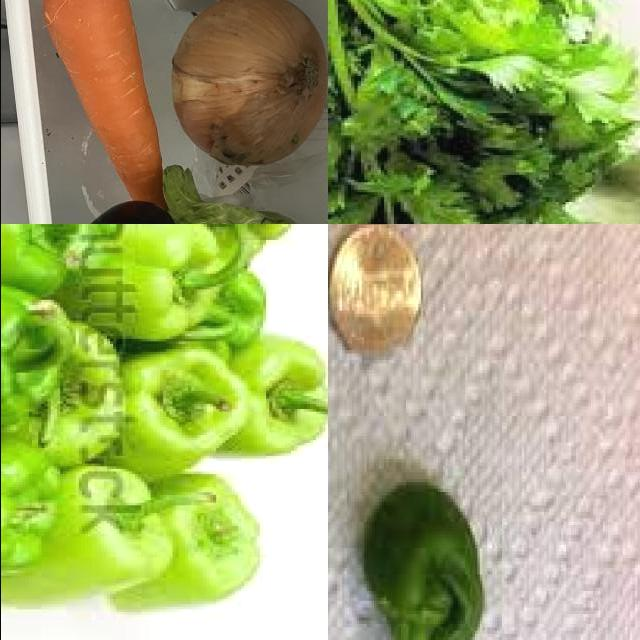bell_pepper: (341, 461, 496, 640), (1, 284, 79, 434), (1, 432, 68, 587)
carrot: (37, 1, 168, 215)
onion: (168, 1, 328, 172)
